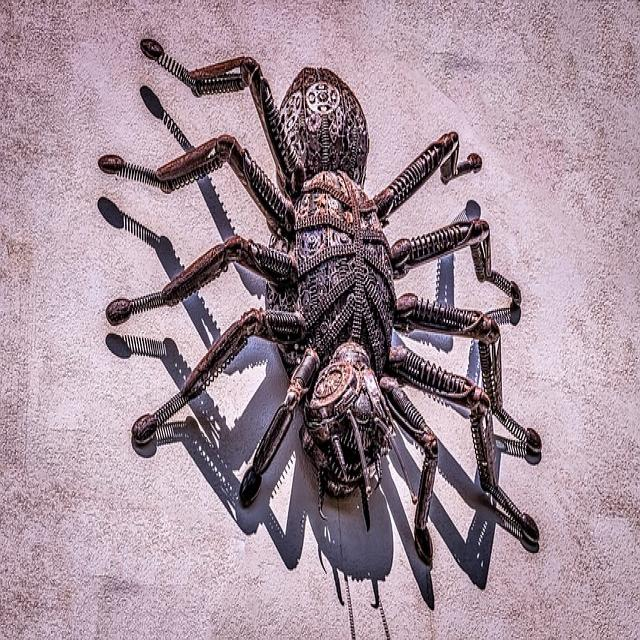spyder: (98, 42, 540, 608)
